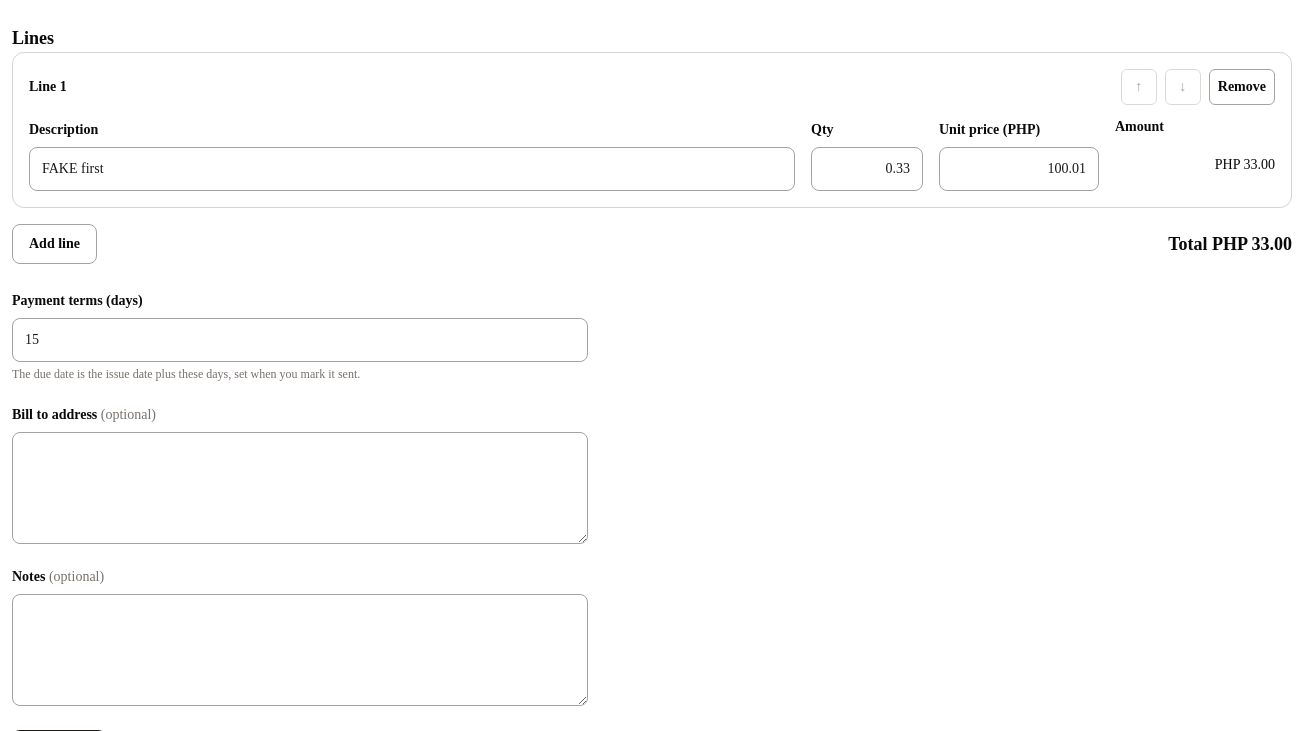
Test: invoice forms (AC-1, AC-2, AC-3, AC-15) › updates the visible total and permits keyboard reorder and remove
This screenshot has width=1304, height=731.
Expected: the text "Total PHP 33.00" is shown, [1168,230,1292,258]
Click the button "Add line": (54, 244) [12,224,97,264]
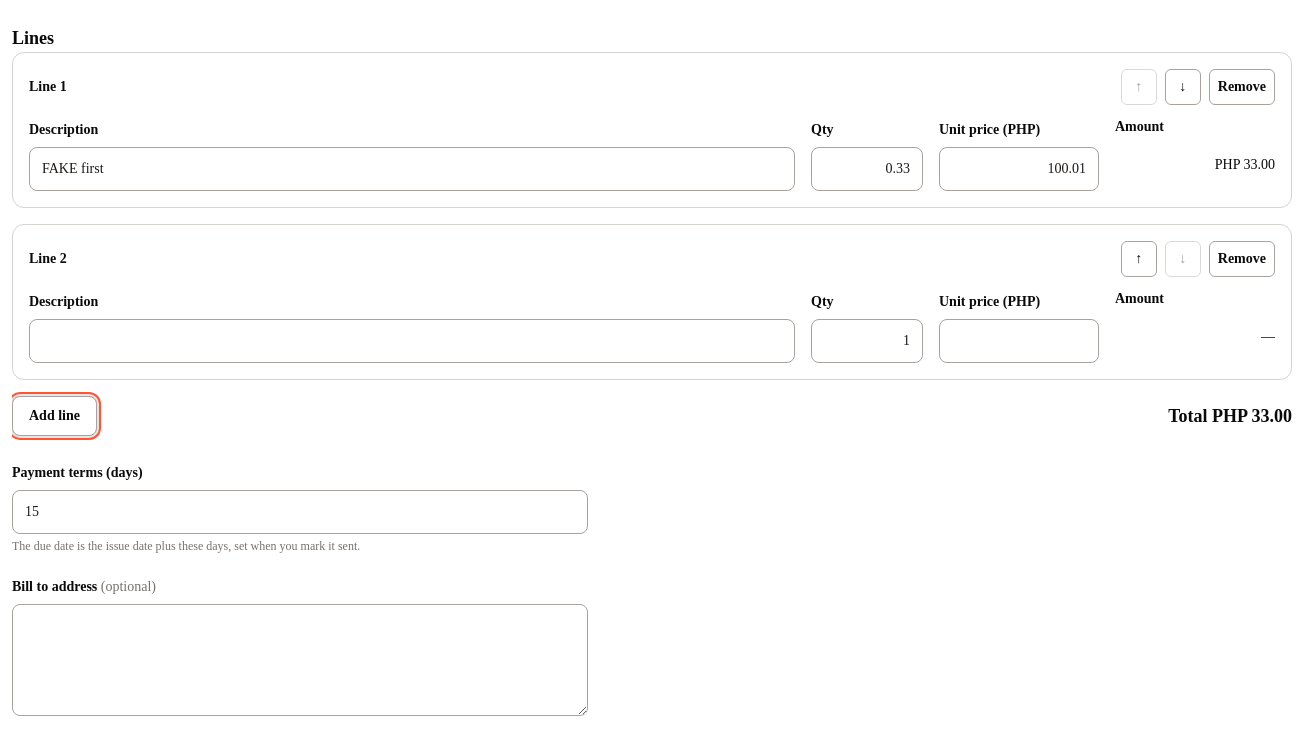
In the 2nd field labelled "Description": (412, 341) [29,319,795,363], type "FAKE second"
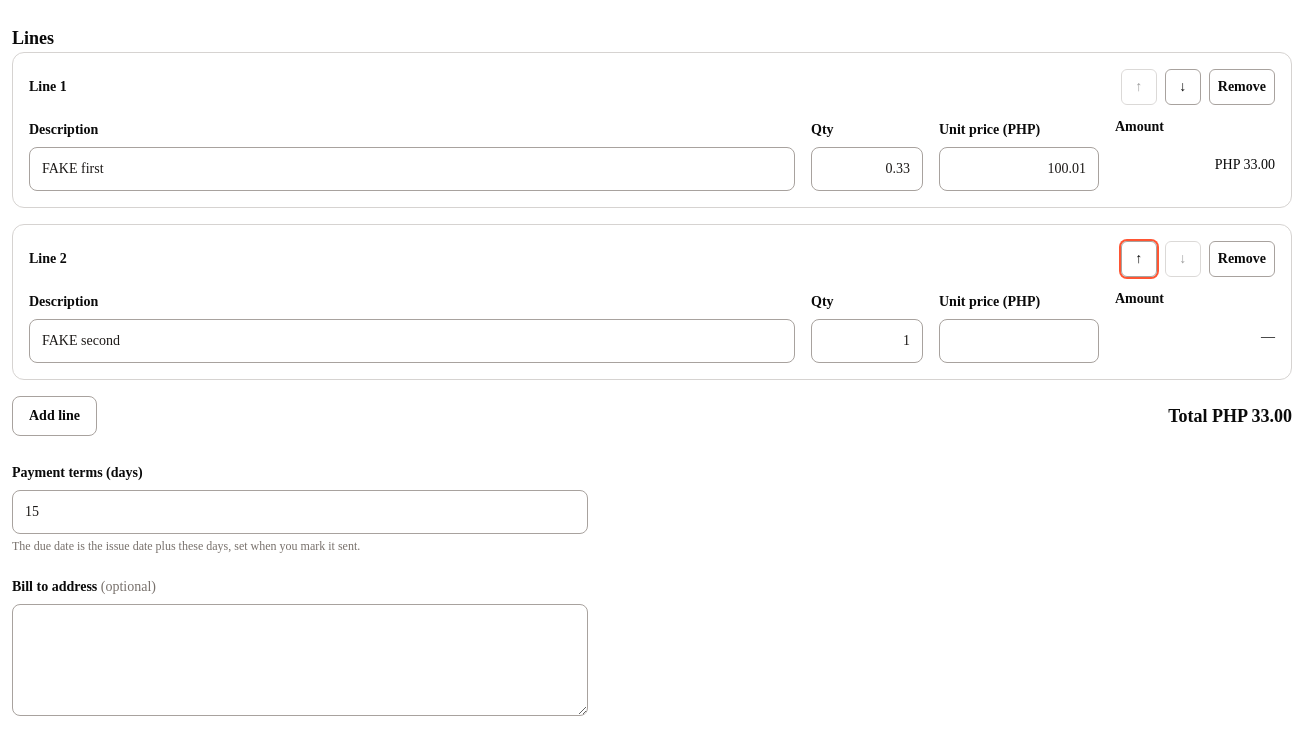
Press Enter
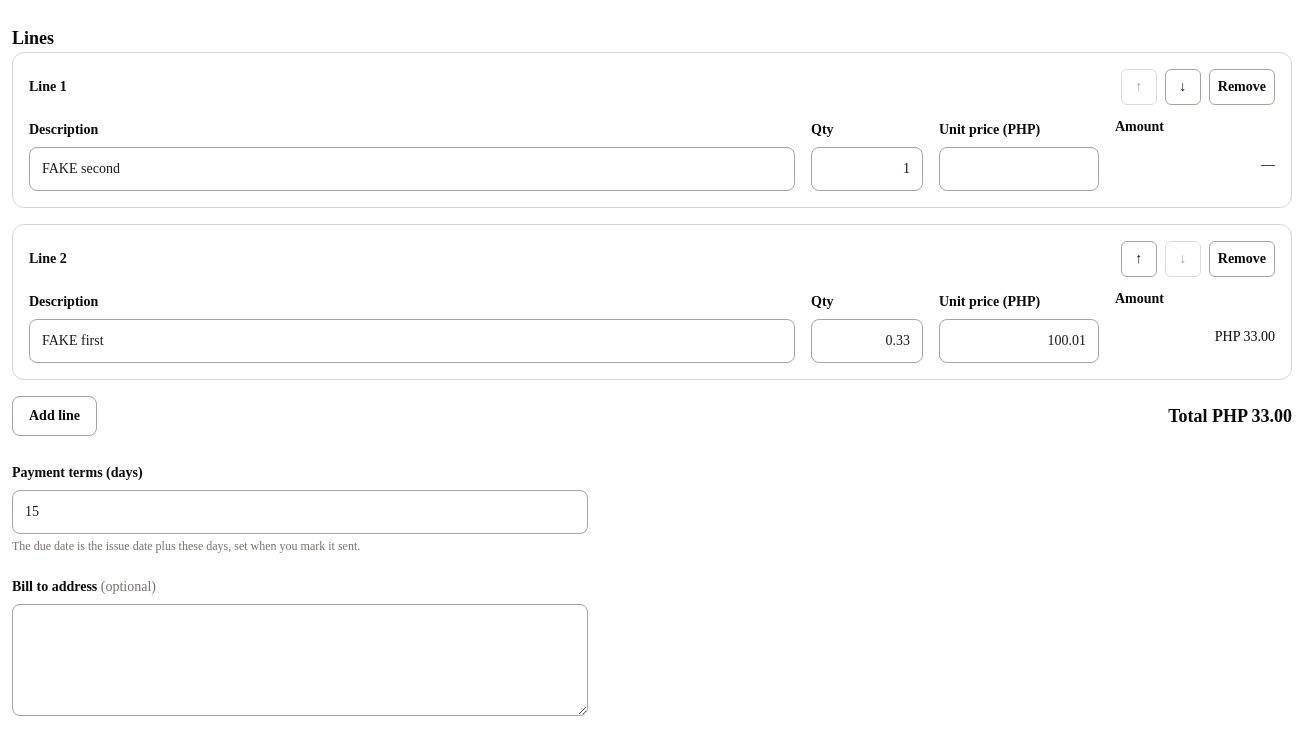
Click the button with aria-label "Remove line 1": (1242, 87) [1209,69,1275,105]
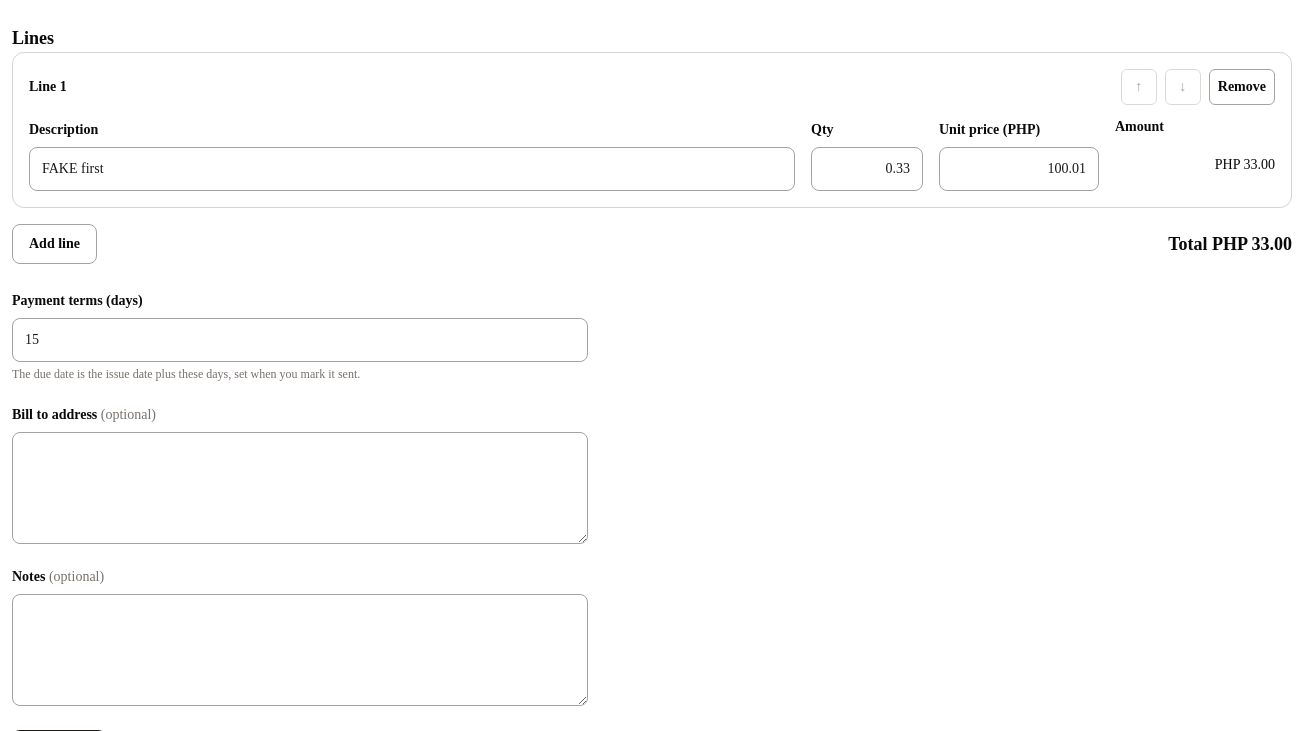
Expected: the field labelled "Description" holds "FAKE first", [29,147,795,191]
Now the number of fields labelled "Description" is 1, box [29,147,795,191]
